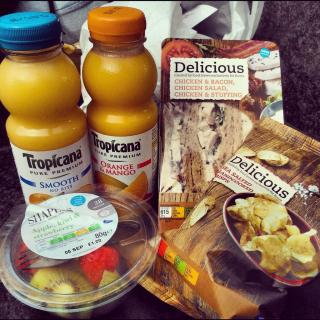Strawberry: (4, 242, 46, 280), (73, 246, 113, 285)
